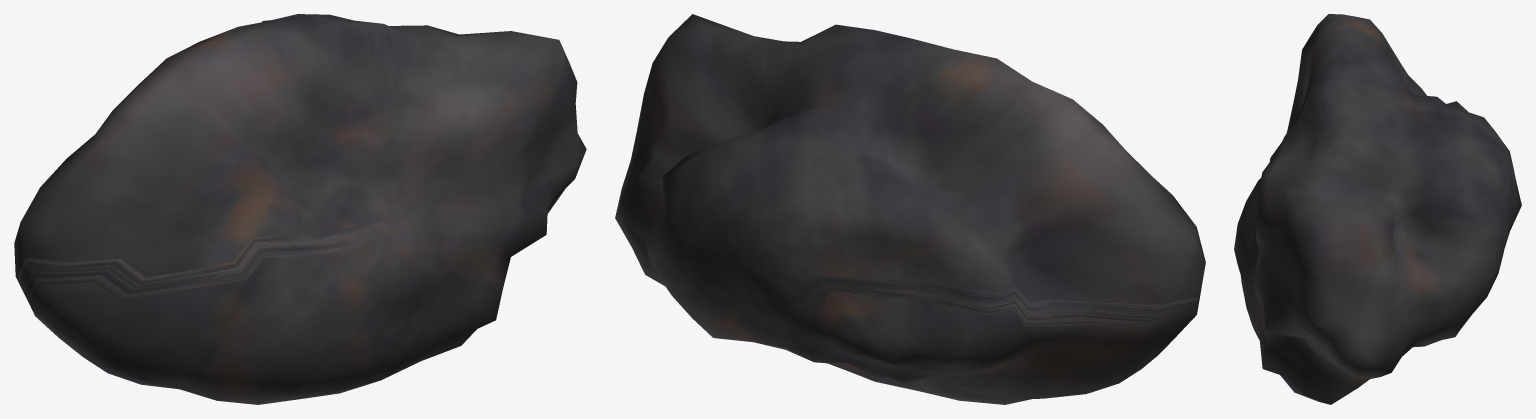
The model's file is asteroide_2.glb.
The picture shows the model from 3 angles, left to right: view 1: azimuth 30°, elevation 25°; view 2: azimuth 150°, elevation 25°; view 3: azimuth 270°, elevation 25°; orthographic projection. The views are drawn at different scales.
Visible parts, largest first — view 1: Asteroide_2; view 2: Asteroide_2; view 3: Asteroide_2.
Part boxes in pixels (x1,y1,x2,y2): Asteroide_2: [14, 14, 586, 404]; Asteroide_2: [615, 14, 1205, 404]; Asteroide_2: [1234, 14, 1521, 404].
Size of the model in its own units: 3.3 by 2.01 by 1.73.
Materials: 1 (1 with a texture image).
